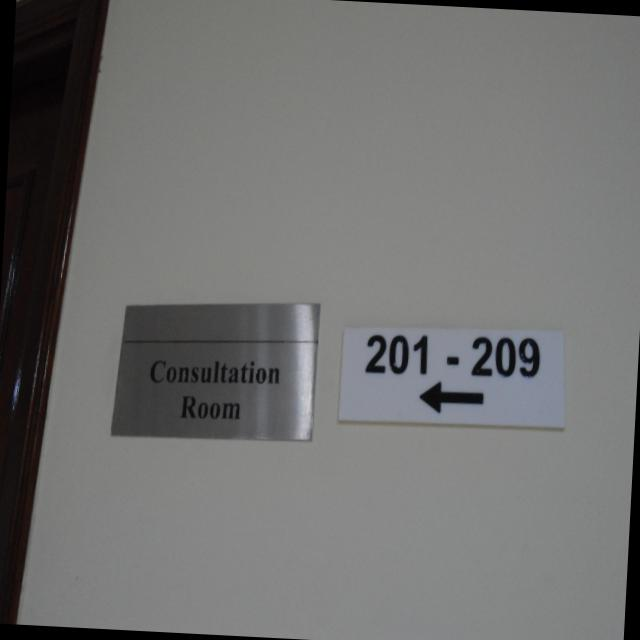door: (0, 0, 122, 628)
sign: (337, 316, 586, 452), (112, 289, 326, 445)
